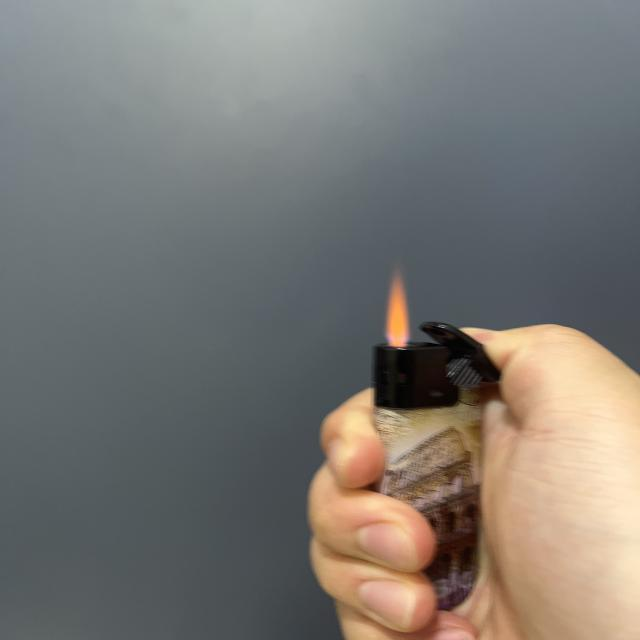fire: (383, 270, 414, 344)
